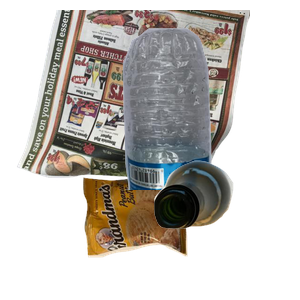glass: (151, 158, 300, 300)
paper: (14, 10, 254, 190)
plastic: (111, 26, 300, 206)
trash: (81, 168, 261, 300)
